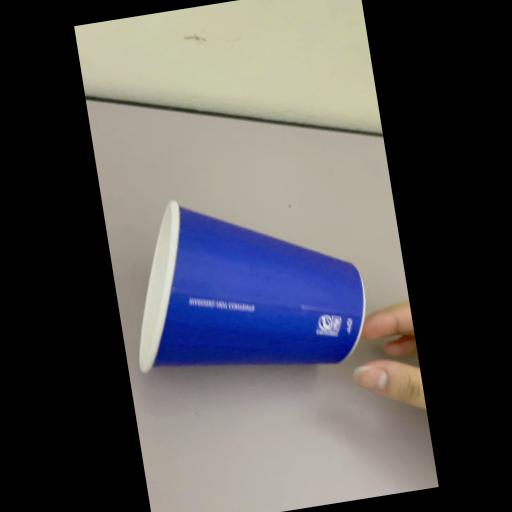lp_paper_cup: (113, 172, 375, 392)
